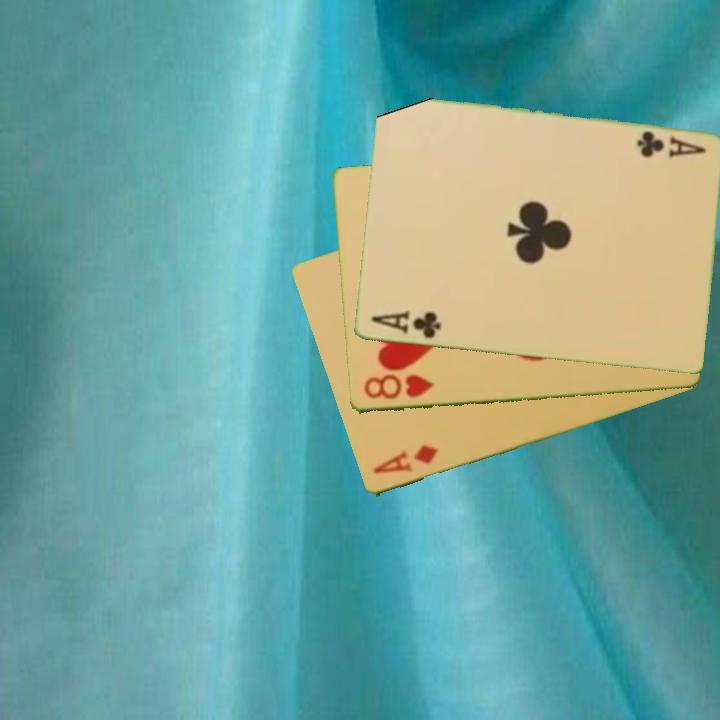8h: (360, 371, 437, 403)
Ac: (367, 307, 443, 342), (633, 128, 709, 162)
Ad: (369, 441, 441, 478)
